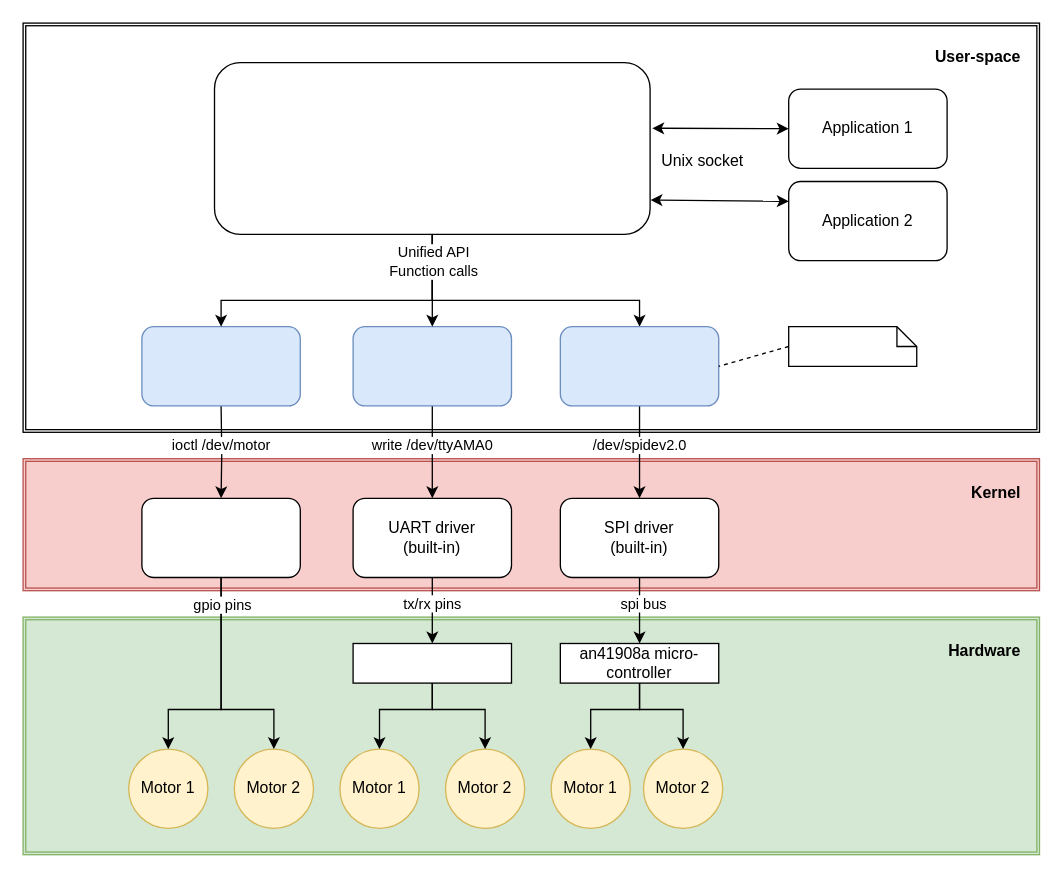
Some shapes in this 1063 by 878 pixel diagram are drawn without their labels. Each missing label, with the centre of its shape:
".so libraries" belongs at [852,345].
"an41908a protocol driver-wrapper" belongs at [639,365].
"external micro-controller" belongs at [432,662].
"Kmotor driver-wrapper" belongs at [220,365].
"kmotor GPIO driver (vendor provided)" belongs at [220,537].
"Motors-daemon" belongs at [431,147].
"PELCO protocol driver-wrapper" belongs at [432,365].
